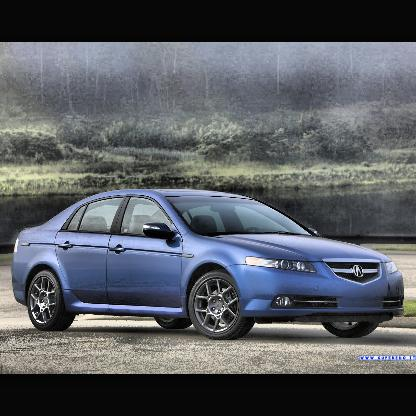Acura TL Type-S 2008: (11, 186, 408, 343)
